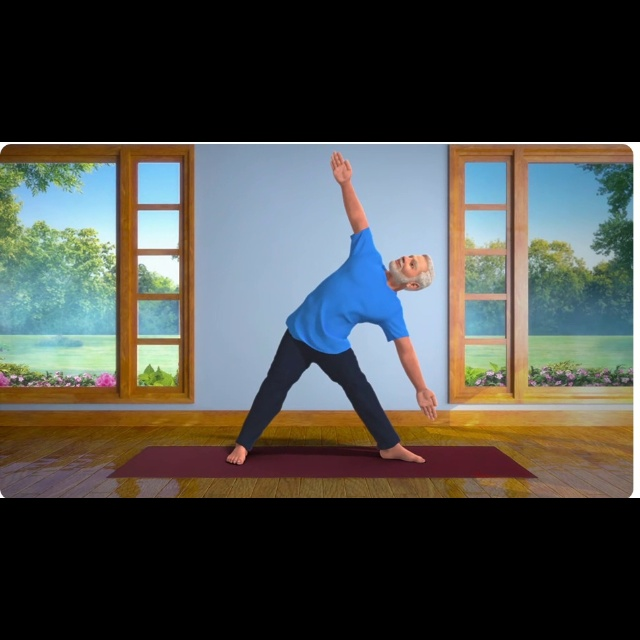Triangle_Pose: (214, 151, 446, 469)
